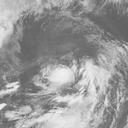cyclone: (39, 58, 102, 113)
